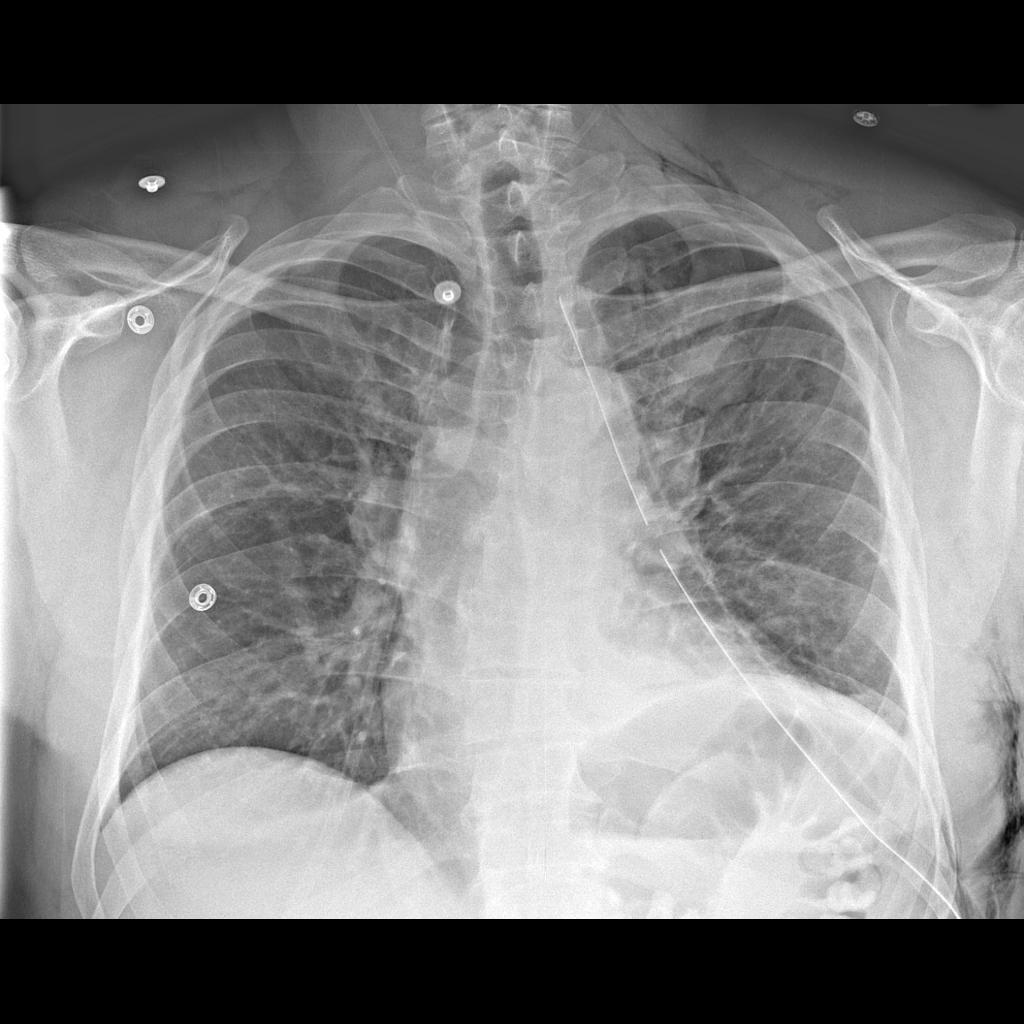Nodule: (660, 325, 771, 424)
